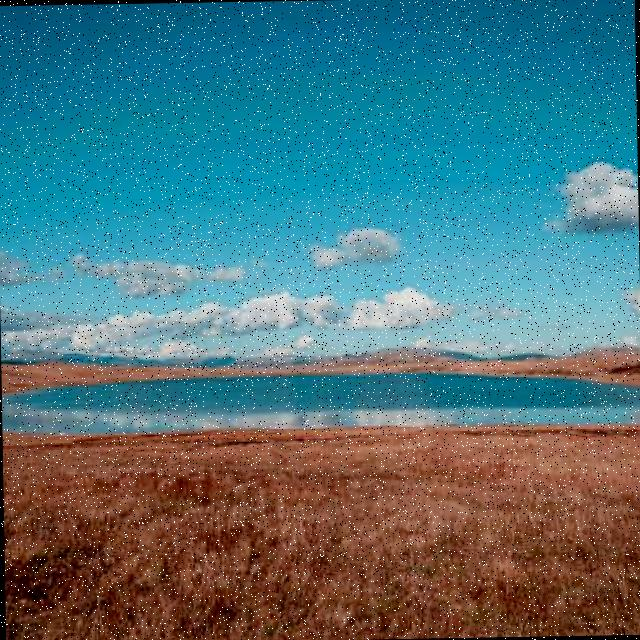Cc: (54, 234, 451, 336)
